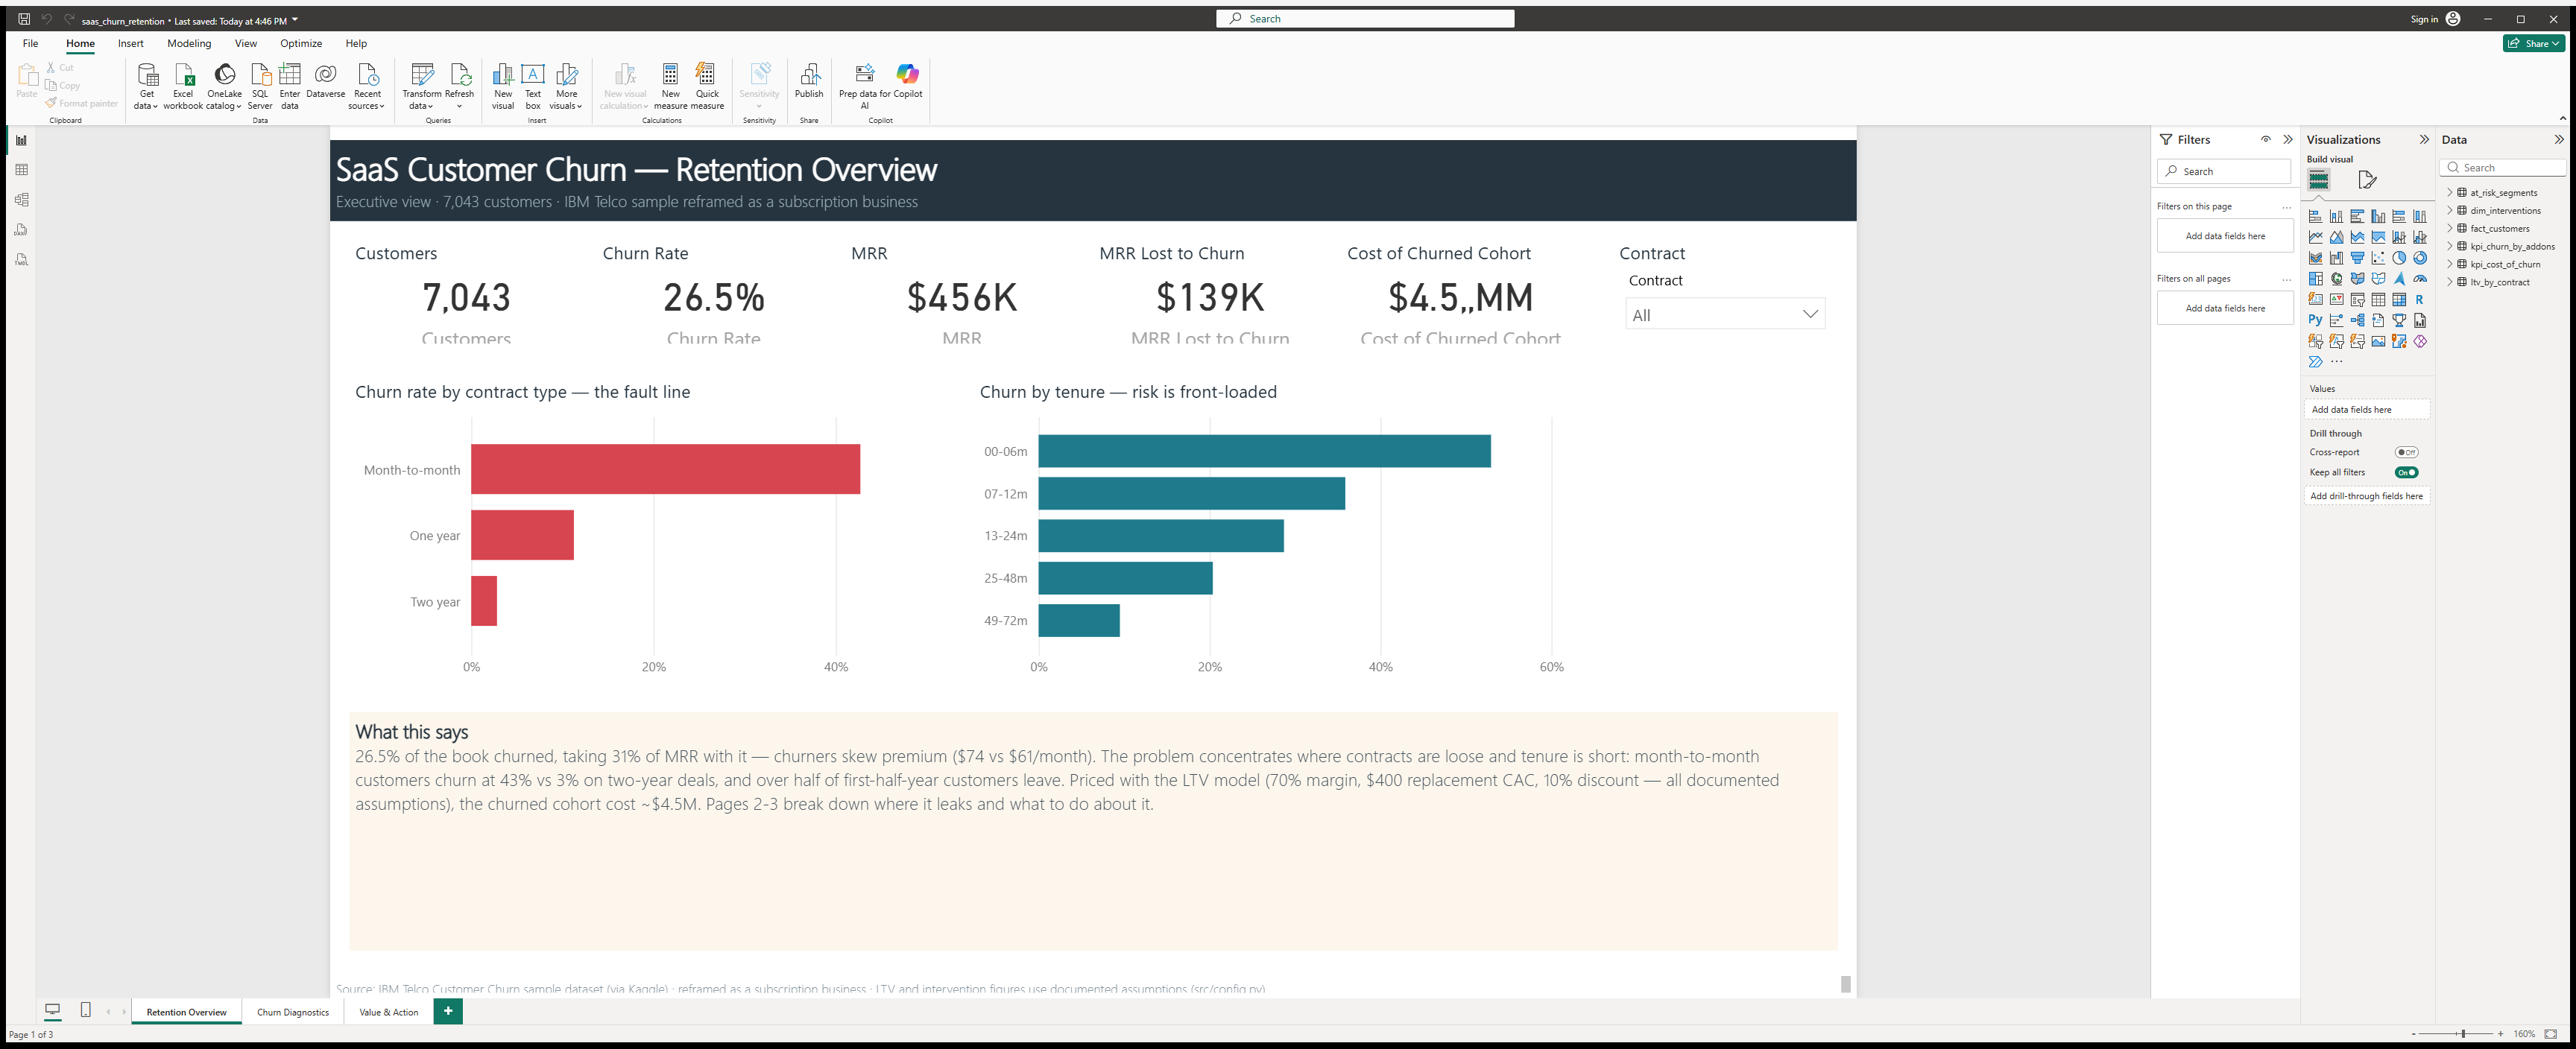

What the dashboard file says about the page in this screenshot:
{"tool":"powerbi","page":{"name":"Retention Overview","canvas":[1280,720],"ordinal":0},"visuals":[{"type":"textbox","box":[0,0,1280,68],"z":0},{"type":"textbox","box":[0,696,1280,24],"z":1000},{"type":"card","title":"Customers","fields":{"Values":["fact_customers.Customers"]},"box":[16,84,196,92],"z":2000},{"type":"card","title":"Churn Rate","fields":{"Values":["fact_customers.Churn Rate"]},"box":[224,84,196,92],"z":3000},{"type":"card","title":"MRR","fields":{"Values":["fact_customers.MRR"]},"box":[432,84,196,92],"z":4000},{"type":"card","title":"MRR Lost to Churn","fields":{"Values":["fact_customers.MRR Lost to Churn"]},"box":[640,84,196,92],"z":5000},{"type":"card","title":"Cost of Churned Cohort","fields":{"Values":["kpi_cost_of_churn.Cost of Churned Cohort"]},"box":[848,84,200,92],"z":6000},{"type":"slicer","title":"Contract","fields":{"Values":["fact_customers.Contract"]},"box":[1076,84,188,92],"z":7000},{"type":"clusteredBarChart","title":"Churn rate by contract type — the fault line","fields":{"Category":["fact_customers.Contract"],"Y":["fact_customers.Churn Rate"]},"box":[16,200,500,260],"z":8000},{"type":"clusteredBarChart","title":"Churn by tenure — risk is front-loaded","fields":{"Category":["fact_customers.tenure_band"],"Y":["fact_customers.Churn Rate"]},"box":[540,200,500,260],"z":9000},{"type":"textbox","box":[16,480,1248,200],"z":10000}]}

Visuals, with their boxes on the page's 1280x720 design canvas (x1, y1, x2, y2). These are canvas units, not pixel positions in the 2576x1049 screenshot, which may show the page scaled, cropped or inside an application window:
textbox: bbox=[0, 0, 1280, 68]
textbox: bbox=[0, 696, 1280, 720]
"Customers" card: bbox=[16, 84, 212, 176]
"Churn Rate" card: bbox=[224, 84, 420, 176]
"MRR" card: bbox=[432, 84, 628, 176]
"MRR Lost to Churn" card: bbox=[640, 84, 836, 176]
"Cost of Churned Cohort" card: bbox=[848, 84, 1048, 176]
"Contract" slicer: bbox=[1076, 84, 1264, 176]
"Churn rate by contract type — the fault line" clusteredBarChart: bbox=[16, 200, 516, 460]
"Churn by tenure — risk is front-loaded" clusteredBarChart: bbox=[540, 200, 1040, 460]
textbox: bbox=[16, 480, 1264, 680]
